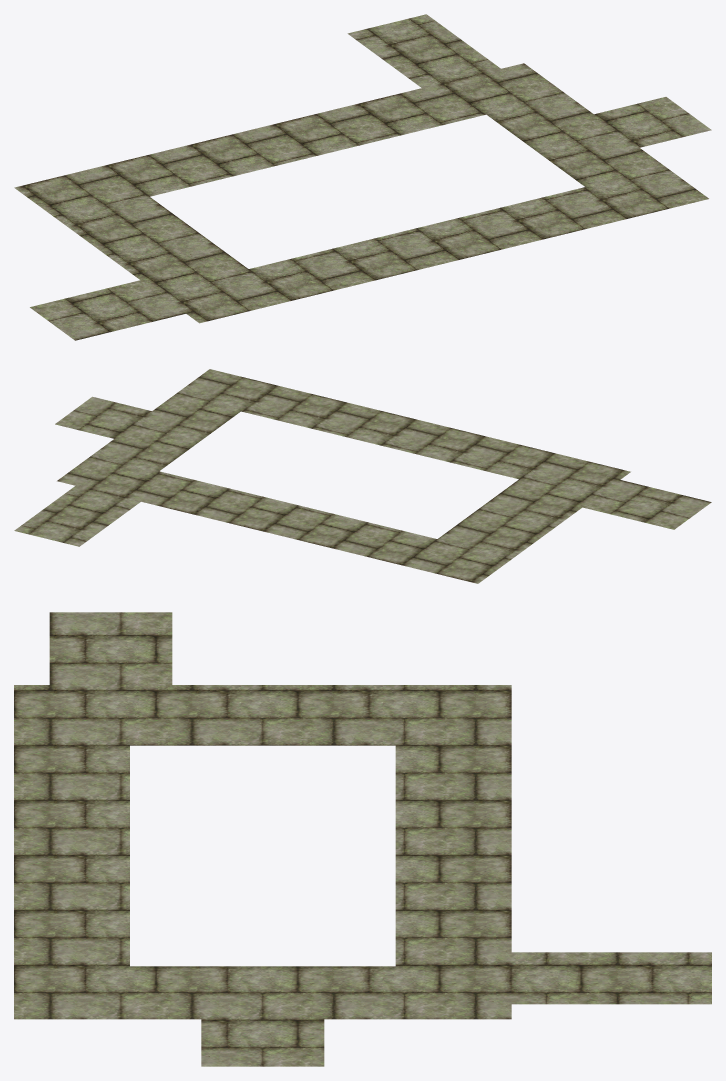
The model's file is OVERHILL_A_01_OBJECT205.fbx.
3 renders of one model, top to bottom at view 1: azimuth 30°, elevation 25°; view 2: azimuth 150°, elevation 25°; view 3: azimuth 270°, elevation 25°, orthographic. The views are drawn at different scales.
Visible parts, largest first — view 1: OVERHILL_A_01_OBJECT205; view 2: OVERHILL_A_01_OBJECT205; view 3: OVERHILL_A_01_OBJECT205.
Part boxes in pixels (x1,y1,x2,y2): OVERHILL_A_01_OBJECT205: (14,14,711,340); OVERHILL_A_01_OBJECT205: (14,369,711,583); OVERHILL_A_01_OBJECT205: (14,612,711,1066).
Size of the model in its own units: 317958 by 0.0593 by 206505.
Materials: 1 (1 with a texture image).
